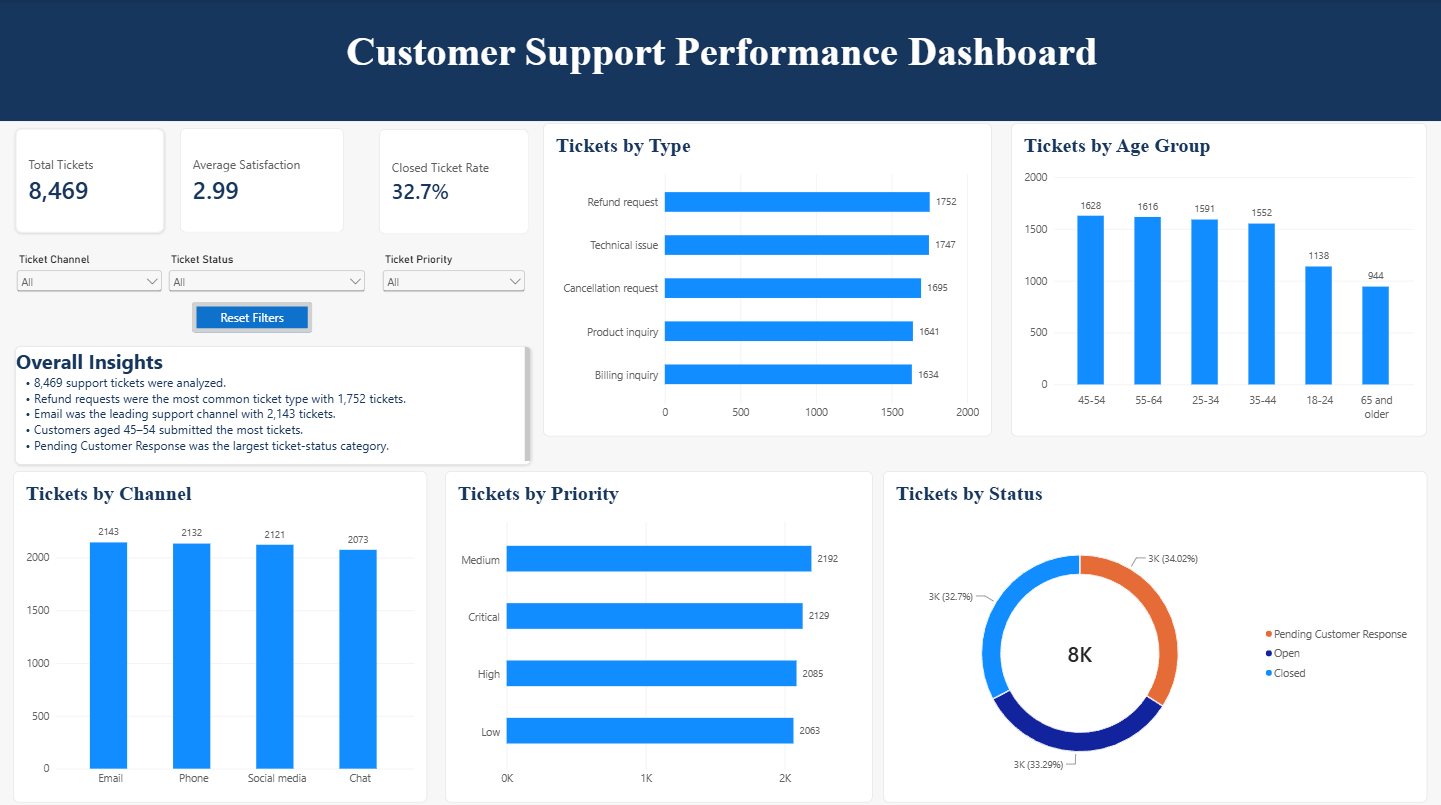

The dashboard page shown, as its layout file describes it:
{"tool":"powerbi","page":{"name":"Page 1","canvas":[1920,1080],"ordinal":0},"visuals":[{"type":"cardVisual","fields":{"Data":["Support Tickets.Total Tickets Display"]},"box":[20.6,170.3,199,140.1],"z":0},{"type":"cardVisual","fields":{"Data":["Support Tickets.Average Satisfaction"]},"box":[240,170.3,218.7,139.4],"z":1000},{"type":"cardVisual","fields":{"Data":["Support Tickets.Closed Ticket Rate"]},"box":[504.2,171.2,199.6,140.9],"z":2000},{"type":"clusteredColumnChart","title":"Tickets by Channel","fields":{"Category":["Support Tickets.Ticket Channel"],"Y":["Support Tickets.Total Tickets"]},"box":[16.7,627,550.7,440.9],"z":3000},{"type":"clusteredBarChart","title":"Tickets by Priority","fields":{"Category":["Support Tickets.Ticket Priority"],"Y":["Support Tickets.Total Tickets"]},"box":[591.6,627,569.3,440.9],"z":4000},{"type":"donutChart","title":"Tickets by Status","fields":{"Category":["Support Tickets.Ticket Status"],"Y":["Support Tickets.Total Tickets"]},"box":[1174,627,723.7,440.9],"z":5000},{"type":"clusteredBarChart","title":"Tickets by Type","fields":{"Category":["Support Tickets.Ticket Type"],"Y":["Support Tickets.Total Tickets"]},"box":[721.9,163.7,597.2,416.7],"z":6000},{"type":"clusteredColumnChart","title":"Tickets by Age Group","fields":{"Category":["Support Tickets.Age Group"],"Y":["Support Tickets.Total Tickets"]},"box":[1345.1,163.7,552.6,416.7],"z":7000},{"type":"slicer","fields":{"Values":["Support Tickets.Ticket Channel"]},"box":[16.7,336.7,202.8,65.1],"z":8000},{"type":"slicer","fields":{"Values":["Support Tickets.Ticket Priority"]},"box":[504.2,336.7,199.1,68.8],"z":9000},{"type":"slicer","fields":{"Values":["Support Tickets.Ticket Status"]},"box":[219.5,336.7,271,69.7],"z":10000},{"type":"shape","box":[0,0,1920,161.5],"z":11000},{"type":"textbox","box":[0,0,1920,130.6],"z":12000},{"type":"textbox","box":[20.5,459.5,686.5,158.1],"z":12001},{"type":"actionButton","box":[254.9,401.9,160,40.9],"z":12002}]}

Visuals, with their boxes in screenshot pixels (x1, y1, x2, y2), scaled from the page's 1920x1080 canvas onto the 1441x805 screenshot:
cardVisual - Support Tickets.Total Tickets Display: locate(15, 127, 165, 231)
cardVisual - Support Tickets.Average Satisfaction: locate(180, 127, 344, 231)
cardVisual - Support Tickets.Closed Ticket Rate: locate(378, 128, 528, 233)
"Tickets by Channel" clusteredColumnChart: locate(13, 467, 426, 796)
"Tickets by Priority" clusteredBarChart: locate(444, 467, 871, 796)
"Tickets by Status" donutChart: locate(881, 467, 1424, 796)
"Tickets by Type" clusteredBarChart: locate(542, 122, 990, 433)
"Tickets by Age Group" clusteredColumnChart: locate(1010, 122, 1424, 433)
slicer - Support Tickets.Ticket Channel: locate(13, 251, 165, 299)
slicer - Support Tickets.Ticket Priority: locate(378, 251, 528, 302)
slicer - Support Tickets.Ticket Status: locate(165, 251, 368, 303)
shape: locate(0, 0, 1440, 120)
textbox: locate(0, 0, 1440, 97)
textbox: locate(15, 342, 531, 460)
actionButton: locate(191, 300, 311, 330)
